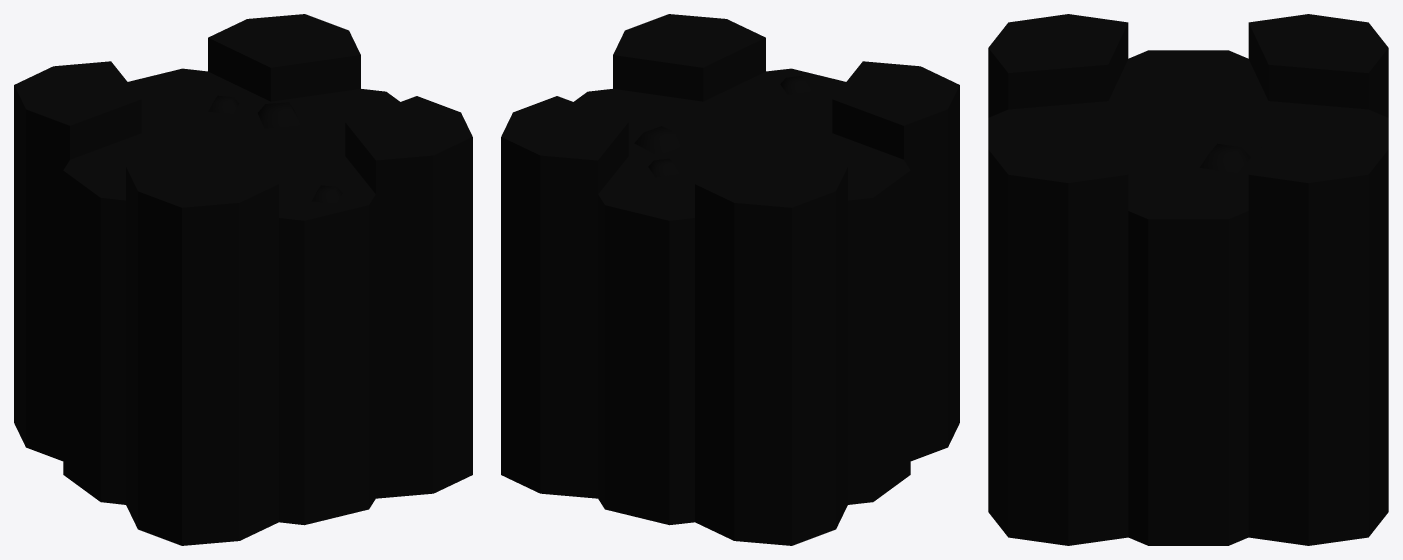
File: rocks-high.glb
The picture shows the model from 3 angles, left to right: view 1: azimuth 30°, elevation 25°; view 2: azimuth 150°, elevation 25°; view 3: azimuth 270°, elevation 25°; orthographic projection. The views are drawn at different scales.
Visible parts, largest first — view 1: rocks-high; view 2: rocks-high; view 3: rocks-high.
Boxes of the visible parts, x1,y1,x2,y2 form: rocks-high: (14, 14, 472, 545); rocks-high: (501, 14, 959, 545); rocks-high: (988, 14, 1388, 545).
Size of the model in its own units: 1 by 1 by 1.
1 material, 1 textured.
